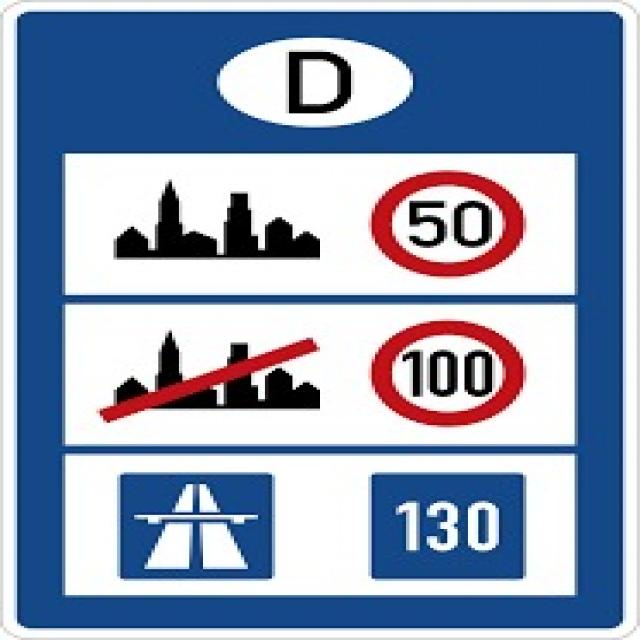speed_limit_100: (357, 313, 539, 429)
speed_limit_50: (361, 168, 548, 288)
